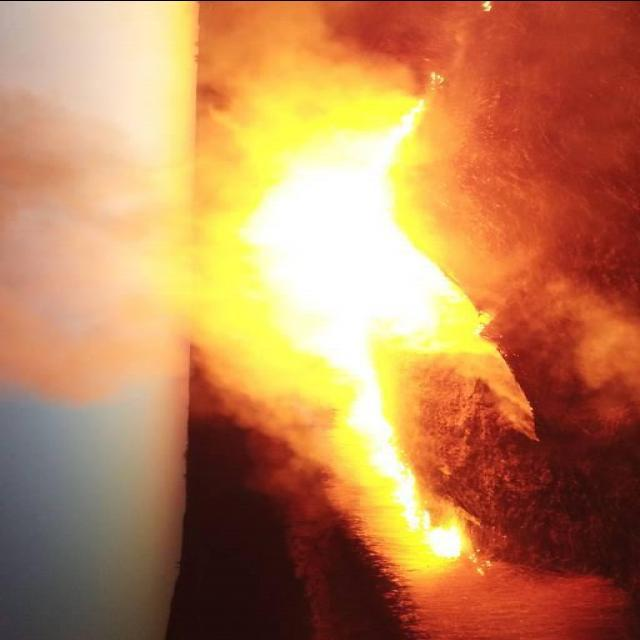Fire: (241, 83, 481, 565)
